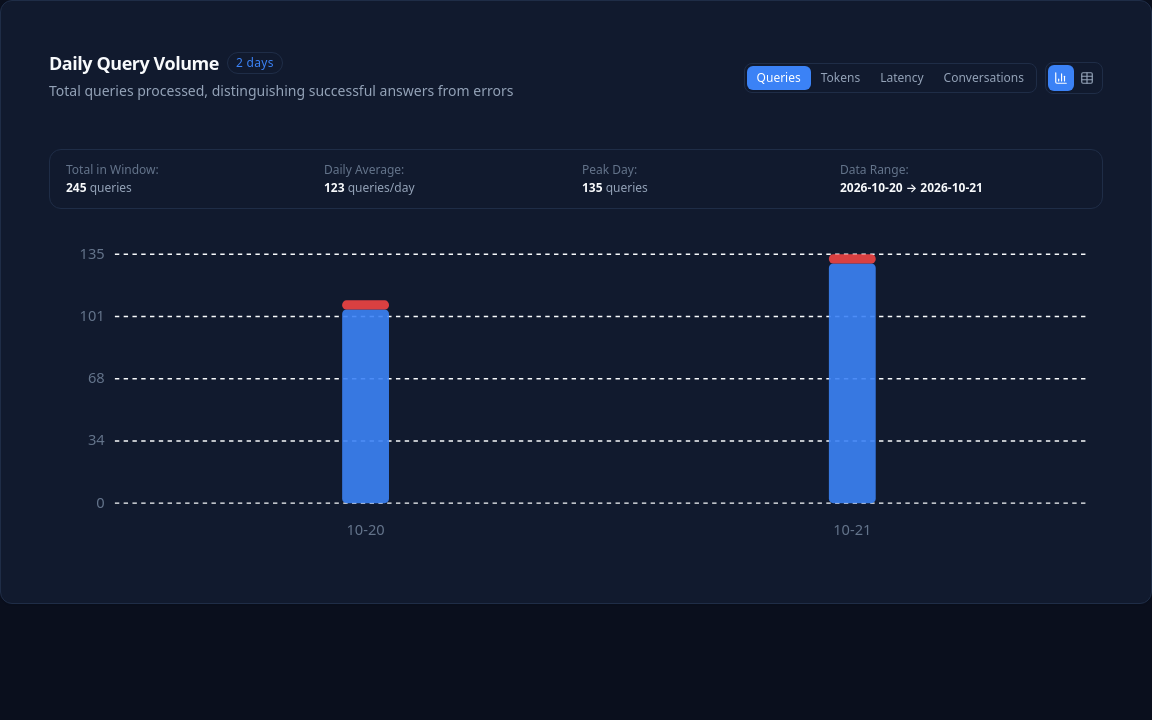
Test case: Admin Analytics & Telemetry Dashboard › 5. TrendChart Accessibility and Modes › switches between visual SVG bar chart and accessible data table
The width and height of the screenshot is (1152, 720).
Check: the picture is shown, box [49, 225, 1103, 547]
// Switch to table view
Click the button named "Table View". click: (1087, 78)
box: [1074, 65, 1100, 91]
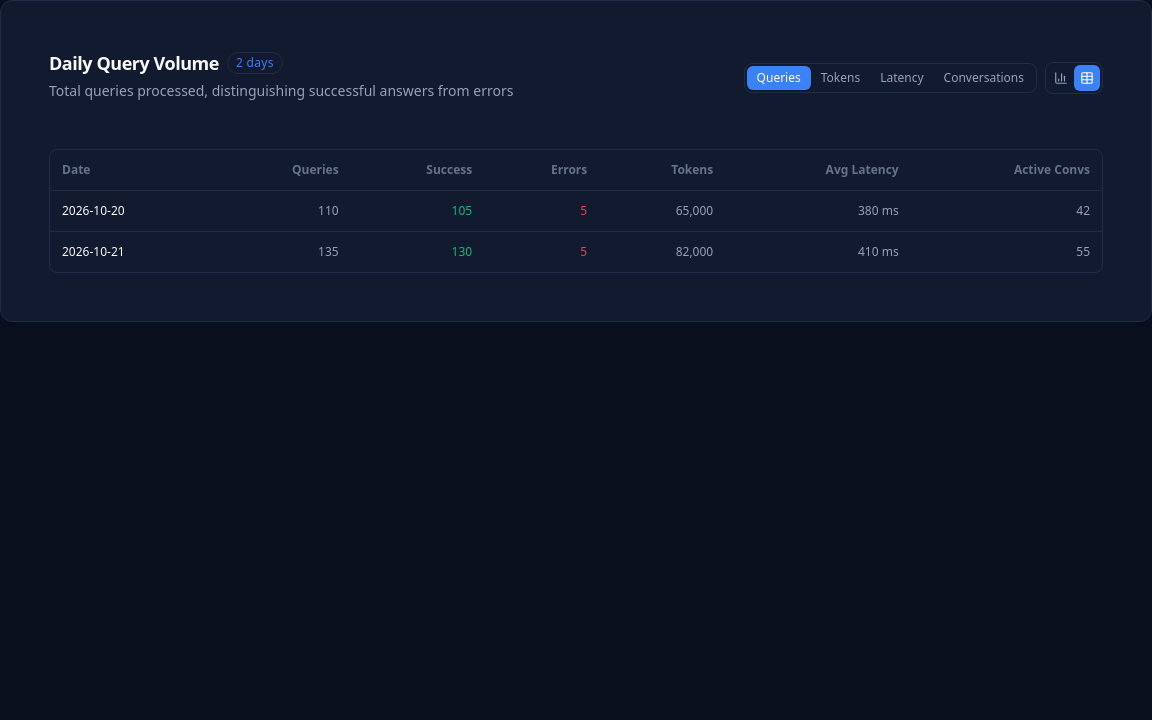
Check: the text "2026-10-20" is shown, box [50, 190, 216, 232]
Check: the table is shown, box [50, 150, 1102, 272]
